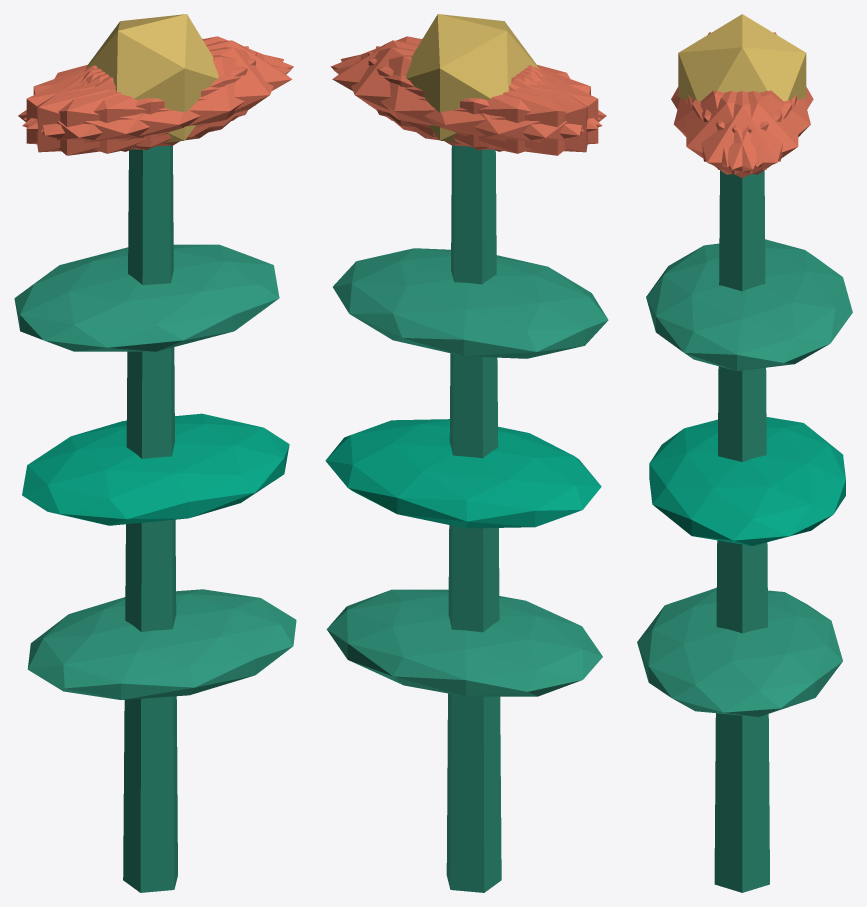
Rendered from polyscias-scutellaria.glb.
3 views of the same model, side by side, from view 1: azimuth 30°, elevation 25°; view 2: azimuth 150°, elevation 25°; view 3: azimuth 270°, elevation 25° (orthographic).
Parts seen in each view (by area): view 1: stem, leaf0, leaf2, leaf1, center, petal1, petal6, petal2, petal5, petal7, petal0, petal4 (+2 smaller); view 2: stem, leaf2, leaf1, leaf0, center, petal8, petal3, petal7, petal4, petal2, petal0, petal5 (+2 smaller); view 3: stem, leaf2, leaf0, leaf1, center, petal0, petal4, petal5, petal1, petal8.
Boxes of the visible parts, left/top/right/bottom form: stem: left=123, top=145, right=177, bottom=892; leaf0: left=27, top=589, right=296, bottom=699; leaf2: left=14, top=244, right=279, bottom=351; leaf1: left=22, top=413, right=289, bottom=525; center: left=86, top=14, right=218, bottom=142; petal1: left=22, top=55, right=291, bottom=153; petal6: left=18, top=67, right=212, bottom=155; petal2: left=37, top=46, right=248, bottom=152; petal5: left=40, top=47, right=283, bottom=146; petal7: left=26, top=52, right=256, bottom=149; petal0: left=85, top=40, right=292, bottom=137; petal4: left=23, top=36, right=293, bottom=129; stem: left=446, top=145, right=501, bottom=892; leaf2: left=333, top=248, right=608, bottom=358; leaf1: left=325, top=419, right=601, bottom=528; leaf0: left=326, top=589, right=602, bottom=696; center: left=406, top=14, right=538, bottom=142; petal8: left=333, top=55, right=602, bottom=153; petal3: left=412, top=67, right=606, bottom=155; petal7: left=376, top=46, right=587, bottom=152; petal4: left=340, top=47, right=584, bottom=146; petal2: left=368, top=52, right=598, bottom=149; petal0: left=332, top=40, right=538, bottom=137; petal5: left=330, top=36, right=601, bottom=129; stem: left=714, top=170, right=769, bottom=892; leaf2: left=646, top=239, right=852, bottom=370; leaf0: left=637, top=588, right=842, bottom=716; leaf1: left=649, top=417, right=845, bottom=545; center: left=678, top=14, right=806, bottom=101; petal0: left=687, top=91, right=796, bottom=177; petal4: left=692, top=91, right=798, bottom=174; petal5: left=686, top=91, right=792, bottom=174; petal1: left=673, top=90, right=782, bottom=167; petal8: left=702, top=90, right=810, bottom=167.
Bounding box in the file's own units: 0.1452 × 0.4496 × 0.1035.
